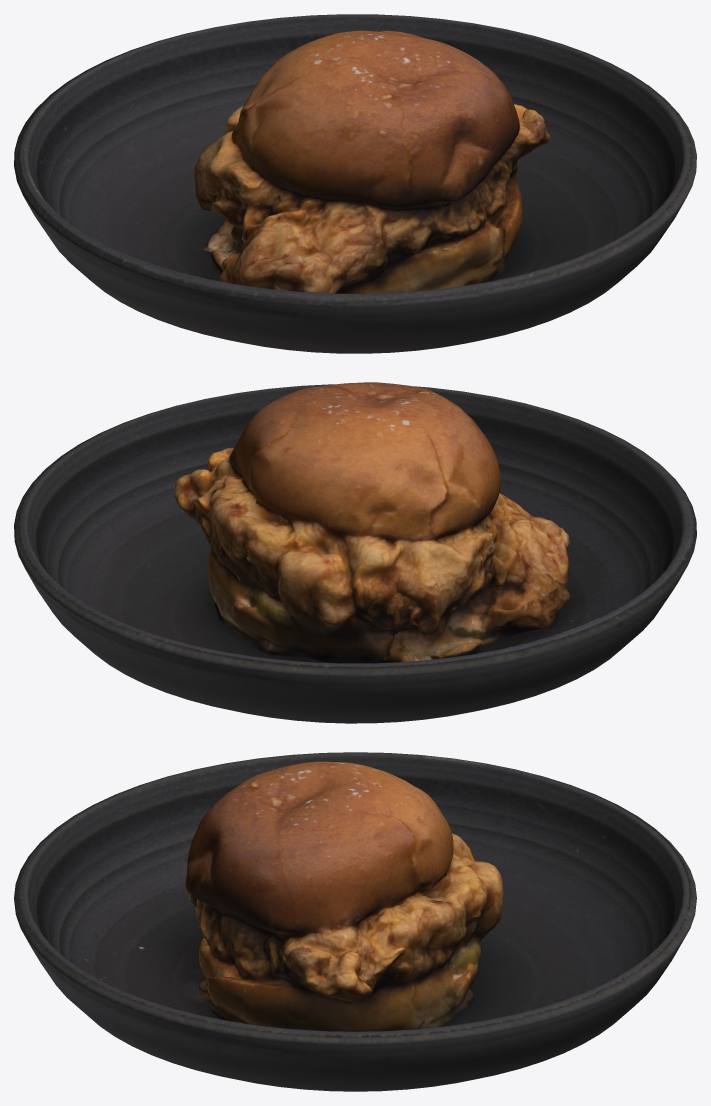
File: Queens_Mother_Classic_(orange_sauce_pickles_on_bottom).FBX
3 renders of one model, top to bottom at view 1: azimuth 30°, elevation 25°; view 2: azimuth 150°, elevation 25°; view 3: azimuth 270°, elevation 25°, orthographic.
Parts seen in each view (by area): view 1: Queens Mother Classic (orange sauce, pickles on bottom); view 2: Queens Mother Classic (orange sauce, pickles on bottom); view 3: Queens Mother Classic (orange sauce, pickles on bottom).
Boxes of the visible parts, x1,y1,x2,y2 form: Queens Mother Classic (orange sauce, pickles on bottom): (14,14,696,353); Queens Mother Classic (orange sauce, pickles on bottom): (14,382,696,723); Queens Mother Classic (orange sauce, pickles on bottom): (14,752,696,1091).
Bounding box in the file's own units: 4.33 × 1.55 × 4.33.
1 material, 1 textured.
